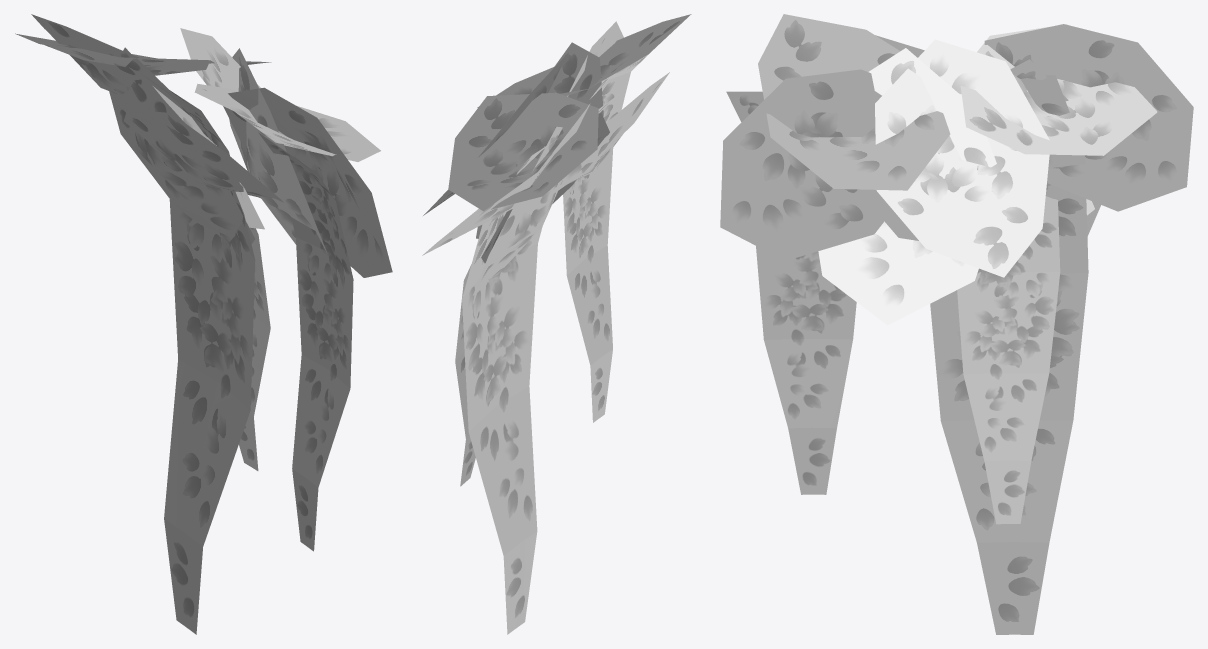
Rendered from SM_Vines_Wide_01.fbx.
3 renders of one model, left to right at view 1: azimuth 30°, elevation 25°; view 2: azimuth 150°, elevation 25°; view 3: azimuth 270°, elevation 25°, orthographic. The views are drawn at different scales.
Parts seen in each view (by area): view 1: Vines_Wide_01_LOD0; view 2: Vines_Wide_01_LOD0; view 3: Vines_Wide_01_LOD0.
Boxes of the visible parts, box(x1,y1,x2,y2) form: Vines_Wide_01_LOD0: box(15, 14, 392, 634); Vines_Wide_01_LOD0: box(422, 14, 691, 634); Vines_Wide_01_LOD0: box(720, 14, 1193, 634).
Size of what is drawn, in the model's own units: 1.38 by 3.57 by 2.61.
